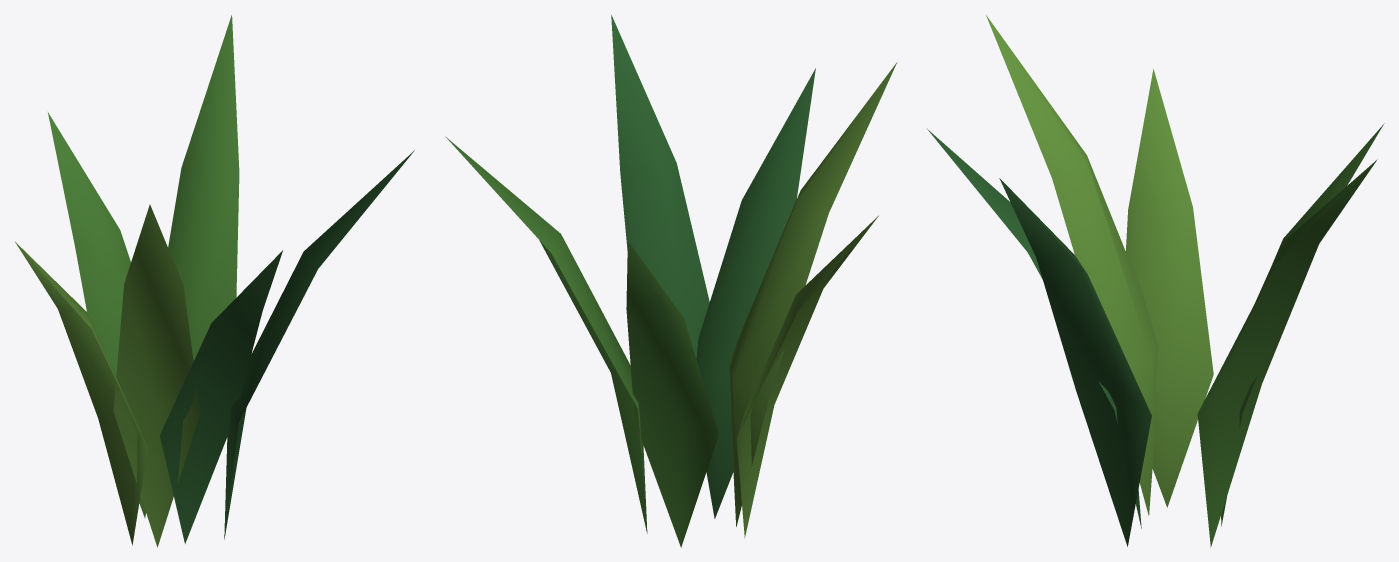
The model's file is grass_meadow.glb.
3 views of the same model, side by side, from view 1: azimuth 30°, elevation 25°; view 2: azimuth 150°, elevation 25°; view 3: azimuth 270°, elevation 25° (orthographic). The views are drawn at different scales.
Parts seen in each view (by area): view 1: grass_meadow; view 2: grass_meadow; view 3: grass_meadow.
Boxes of the visible parts, x1,y1,x2,y2 form: grass_meadow: [15, 15, 414, 547]; grass_meadow: [445, 15, 897, 547]; grass_meadow: [927, 15, 1384, 547].
Bounding box in the file's own units: 0.5989 × 0.7237 × 0.6551.
